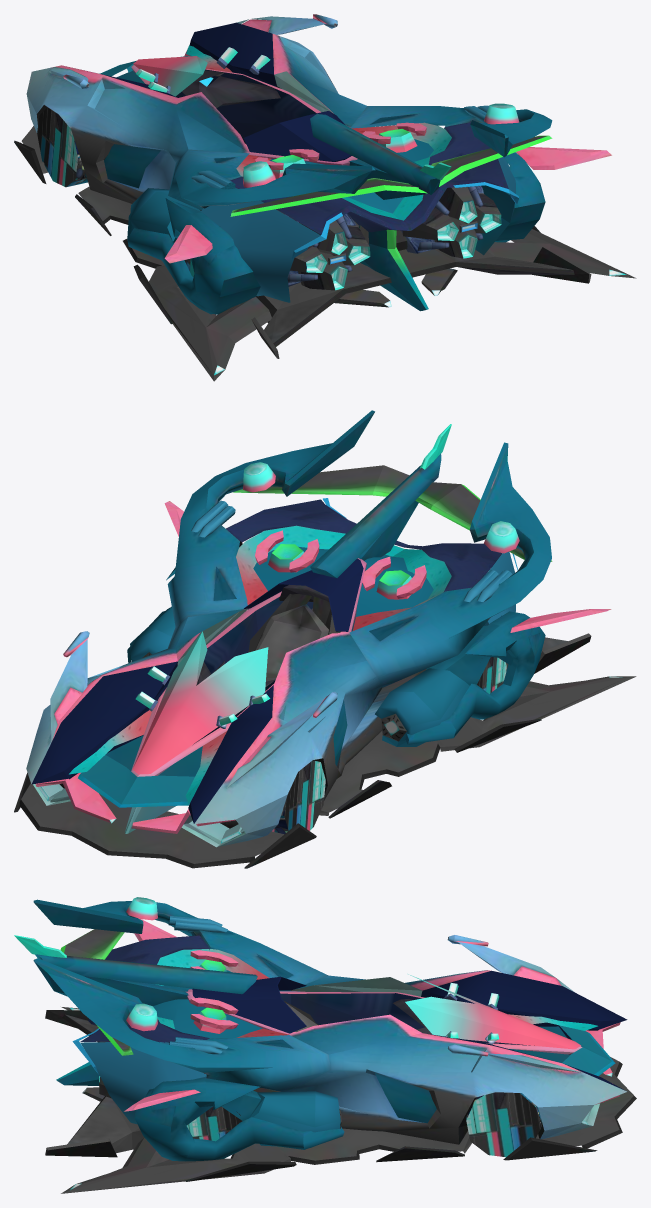
The picture shows the model from 3 angles, top to bottom: view 1: azimuth 30°, elevation 25°; view 2: azimuth 150°, elevation 25°; view 3: azimuth 270°, elevation 25°; orthographic projection. The views are drawn at different scales.
Visible parts, largest first — view 1: body; view 2: body; view 3: body.
Boxes of the visible parts, left/top/right/bottom form: body: left=14, top=14, right=636, bottom=381; body: left=14, top=410, right=636, bottom=868; body: left=14, top=897, right=636, bottom=1193.
Bounding box in the file's own units: 3.76 × 1.57 × 5.06.
Materials: 1 (1 with a texture image).
